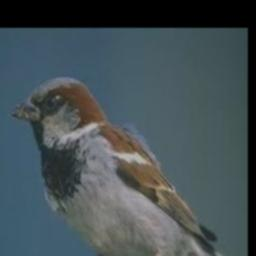Sparrow: (8, 76, 239, 256)
